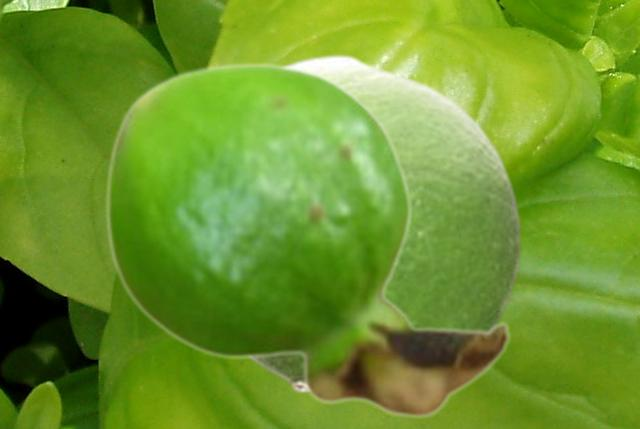guava: (104, 61, 511, 419), (245, 52, 524, 393)
